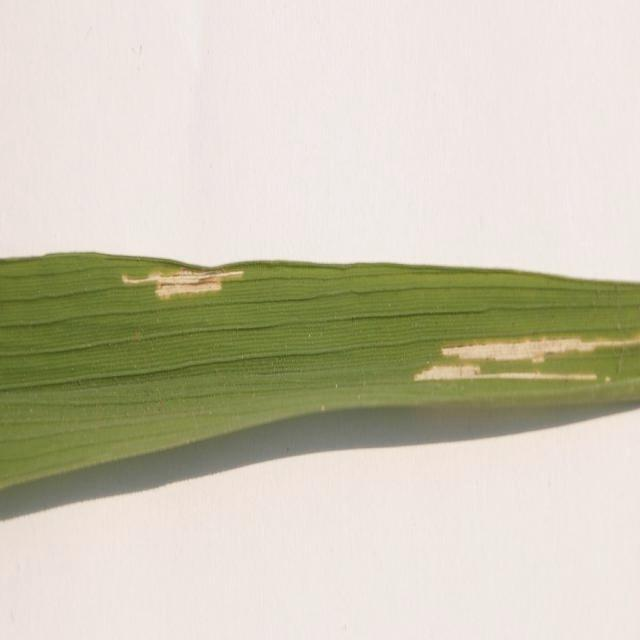bacterial_leaf_blight: (442, 336, 640, 362), (122, 268, 244, 298), (415, 364, 596, 380)
